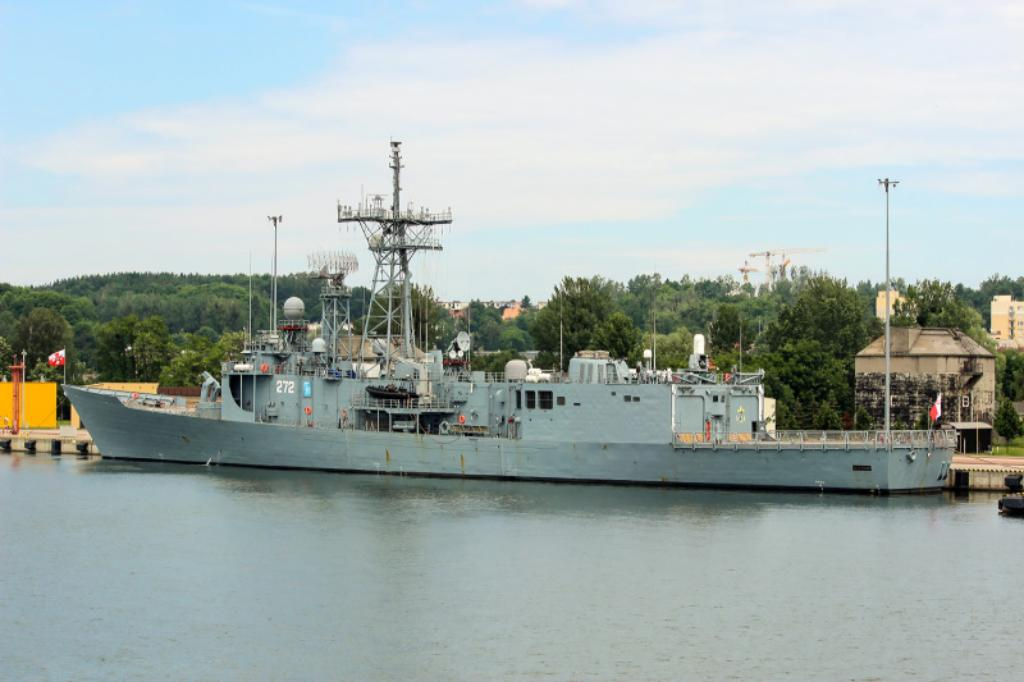Warship: (55, 136, 967, 498)
